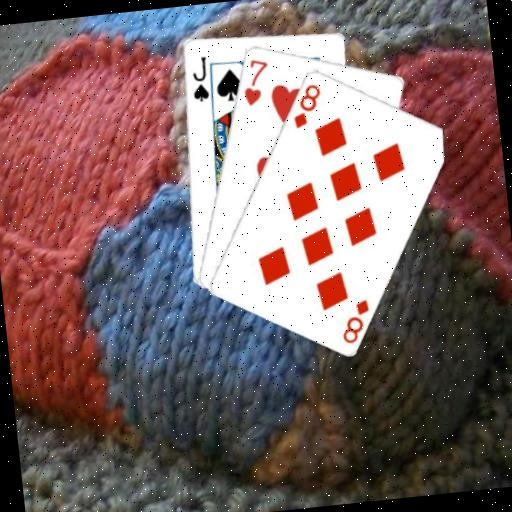7H: (236, 54, 273, 108)
8D: (287, 80, 326, 131), (336, 295, 375, 346)
JS: (185, 53, 211, 104)
